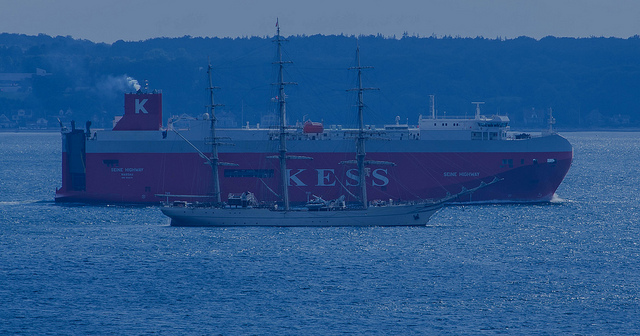PCC: (49, 78, 573, 208)
boat: (163, 29, 441, 229)
